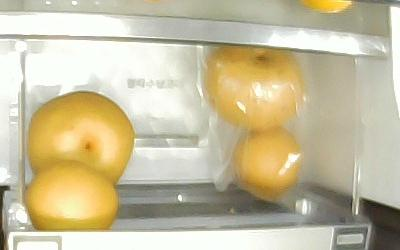pear: (27, 91, 134, 187), (23, 161, 118, 230)
pear_vinyl: (201, 43, 303, 130), (233, 127, 302, 196)
